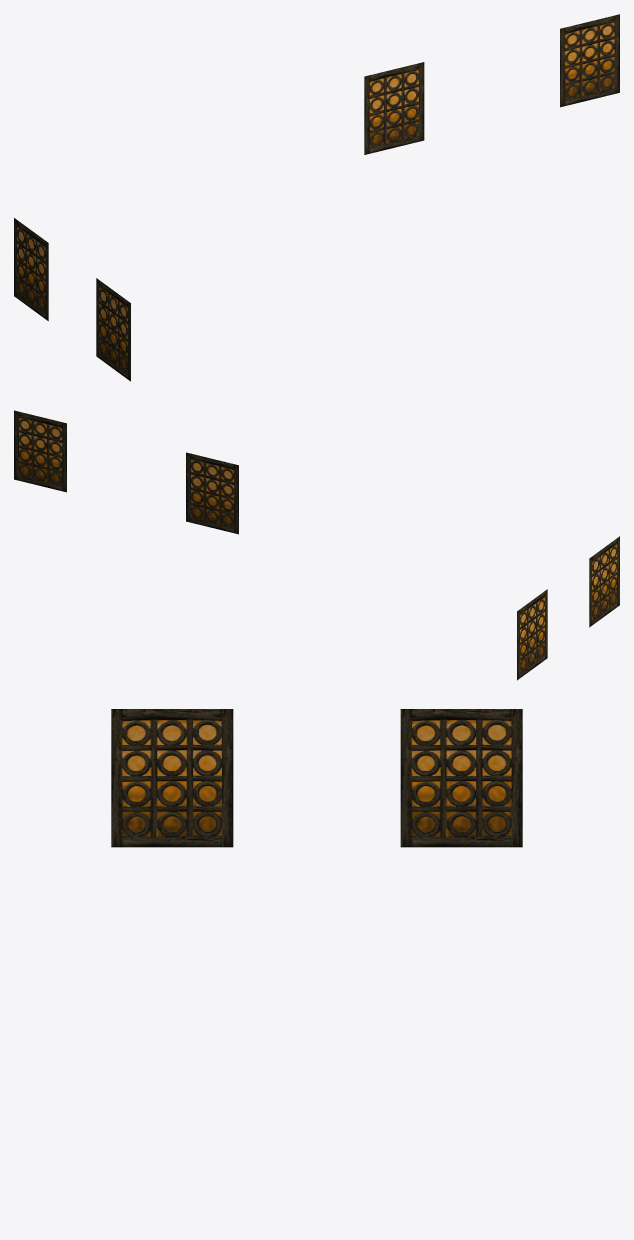
The model's file is LAKETOWN_EXTERIOR_PS_LT_ENT_WINDOWS33938.fbx.
3 renders of one model, top to bottom at view 1: azimuth 30°, elevation 25°; view 2: azimuth 150°, elevation 25°; view 3: azimuth 270°, elevation 25°, orthographic. The views are drawn at different scales.
Visible parts, largest first — view 1: LAKETOWN_EXTERIOR_PS_LT_ENT_WINDOWS33938; view 2: LAKETOWN_EXTERIOR_PS_LT_ENT_WINDOWS33938; view 3: LAKETOWN_EXTERIOR_PS_LT_ENT_WINDOWS33938.
Boxes of the visible parts, x1,y1,x2,y2 form: LAKETOWN_EXTERIOR_PS_LT_ENT_WINDOWS33938: (14,14,619,381); LAKETOWN_EXTERIOR_PS_LT_ENT_WINDOWS33938: (14,410,619,680); LAKETOWN_EXTERIOR_PS_LT_ENT_WINDOWS33938: (111,709,522,847).
Bounding box in the file's own units: 114886 × 28112 × 39523.
Materials: 1 (1 with a texture image).
